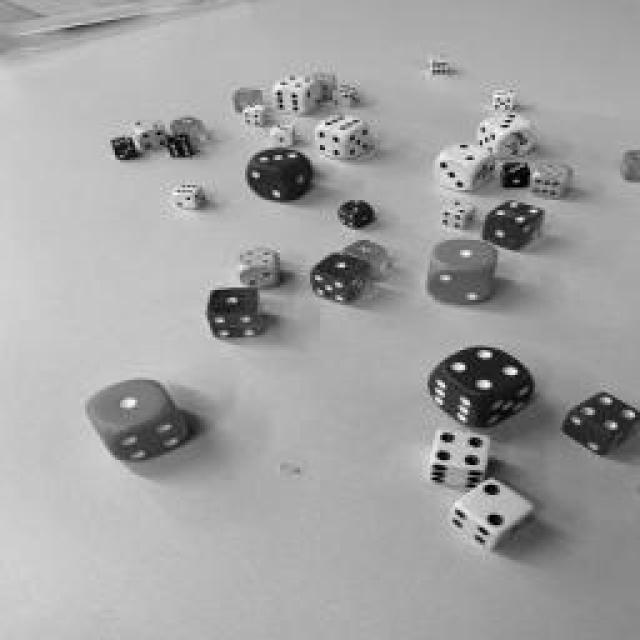dice_1: (90, 380, 165, 425), (435, 240, 495, 268), (315, 255, 365, 280), (210, 288, 255, 312)
dice_2: (459, 480, 529, 530), (448, 142, 488, 162), (442, 200, 472, 215), (132, 120, 162, 130), (342, 202, 368, 212), (246, 105, 264, 113), (429, 56, 446, 62)
dice_3: (252, 149, 302, 169), (488, 115, 528, 130), (538, 164, 568, 176), (172, 118, 200, 128), (502, 164, 528, 174), (234, 89, 258, 96), (168, 135, 188, 143), (272, 125, 292, 133), (495, 90, 515, 95), (312, 75, 332, 80)
dice_4: (442, 350, 528, 395), (572, 392, 638, 432), (432, 432, 486, 468), (490, 200, 542, 225), (240, 250, 275, 265), (278, 76, 312, 89)
dice_5: (346, 241, 384, 259), (112, 138, 132, 148)
dice_6: (322, 116, 362, 132), (175, 184, 200, 194), (334, 86, 356, 94)
